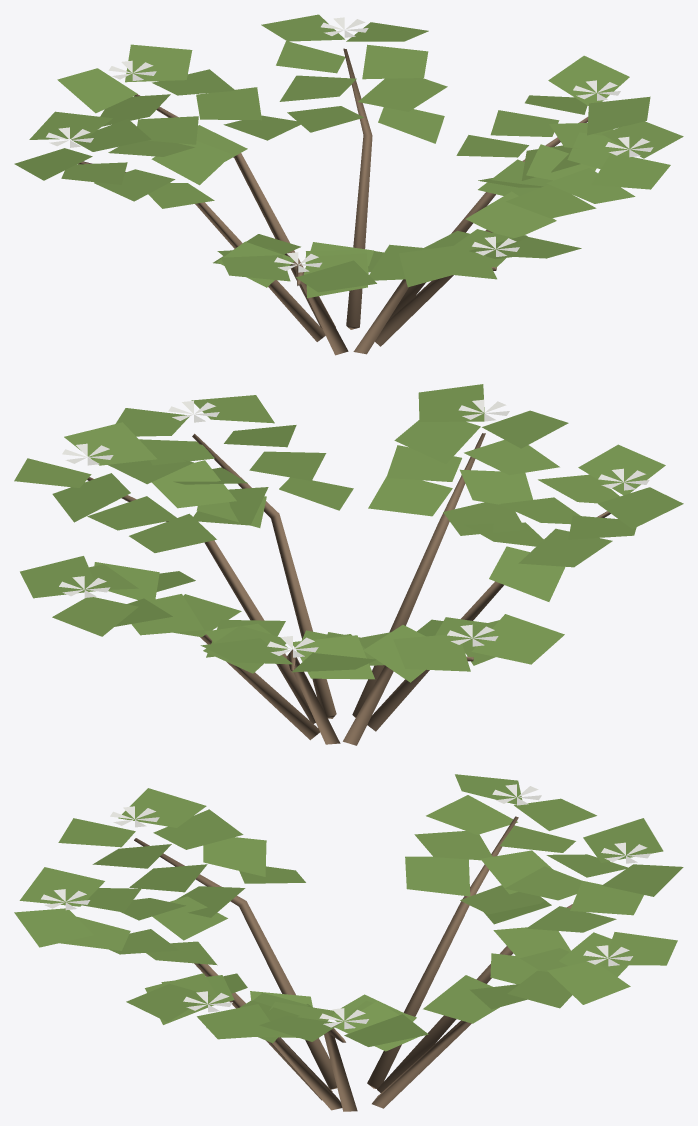
Rendered from hobblebush.glb.
The picture shows the model from 3 angles, top to bottom: view 1: azimuth 30°, elevation 25°; view 2: azimuth 150°, elevation 25°; view 3: azimuth 270°, elevation 25°; orthographic projection. The views are drawn at different scales.
Parts seen in each view (by area): view 1: understory_hobblebush_LOD0; view 2: understory_hobblebush_LOD0; view 3: understory_hobblebush_LOD0.
Boxes of the visible parts, bbox=[...] form: understory_hobblebush_LOD0: bbox=[14, 14, 683, 355]; understory_hobblebush_LOD0: bbox=[14, 384, 683, 745]; understory_hobblebush_LOD0: bbox=[14, 774, 683, 1111].
Bounding box in the file's own units: 2.33 × 0.8165 × 2.4.
